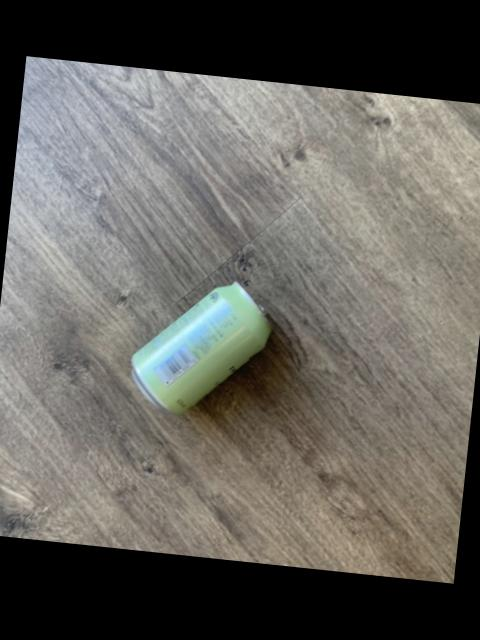metal: (133, 282, 271, 413)
